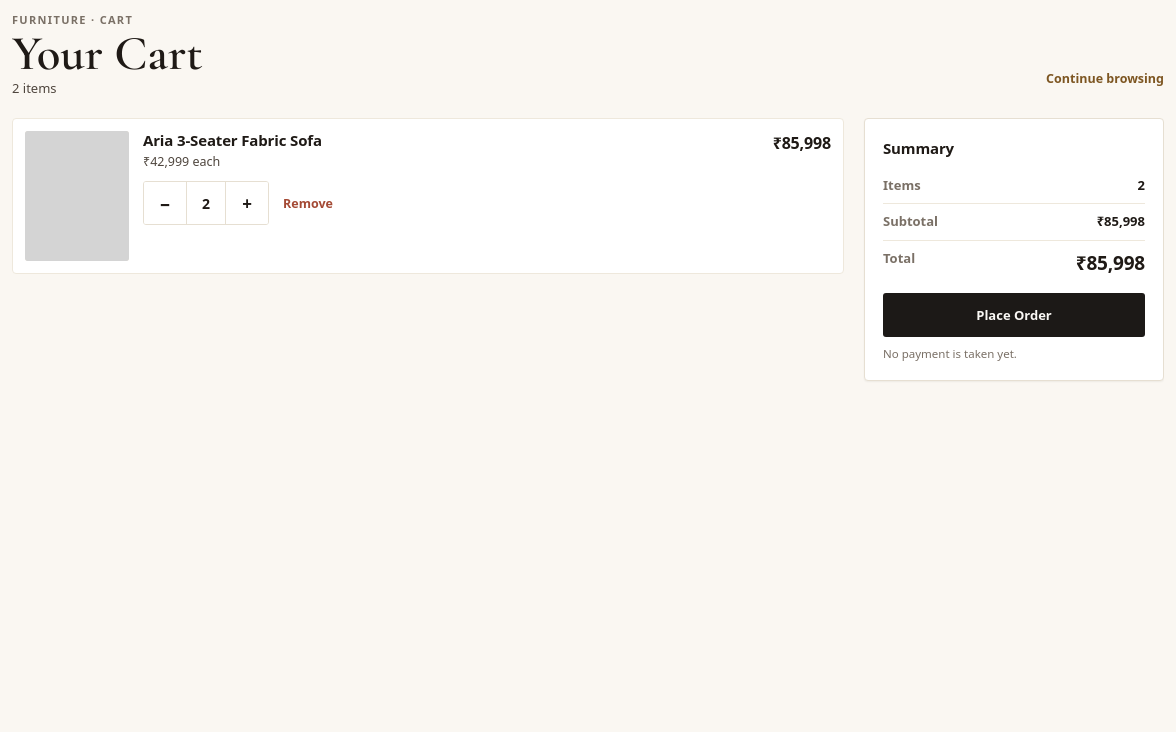
Scenario: CartComponent (backend cart) › Place Order only opens the delivery step: no request is sent yet
Click the button with class "btn-block": (1014, 315) [883,293,1145,337]
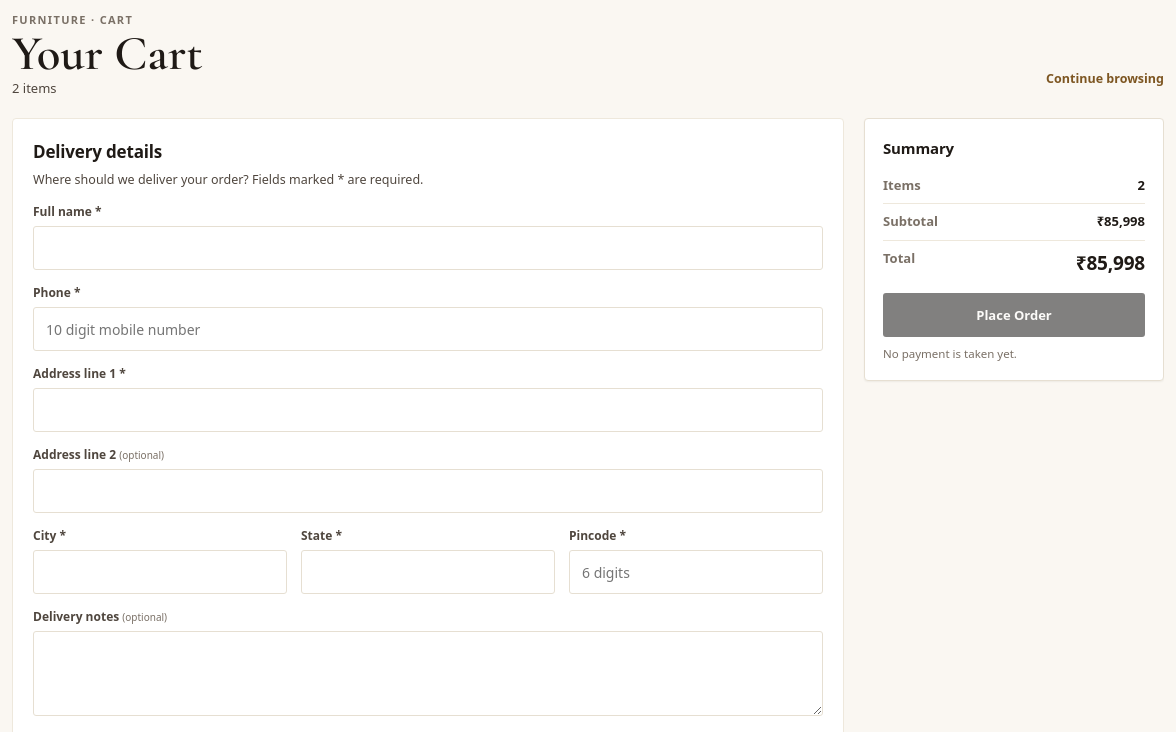
Expected: the text "No payment is taken yet." is shown, [883,346,1017,361]
Expected: the text "Delivery details" is shown, [33,140,162,163]
Expected: the element with class "line" is gone
